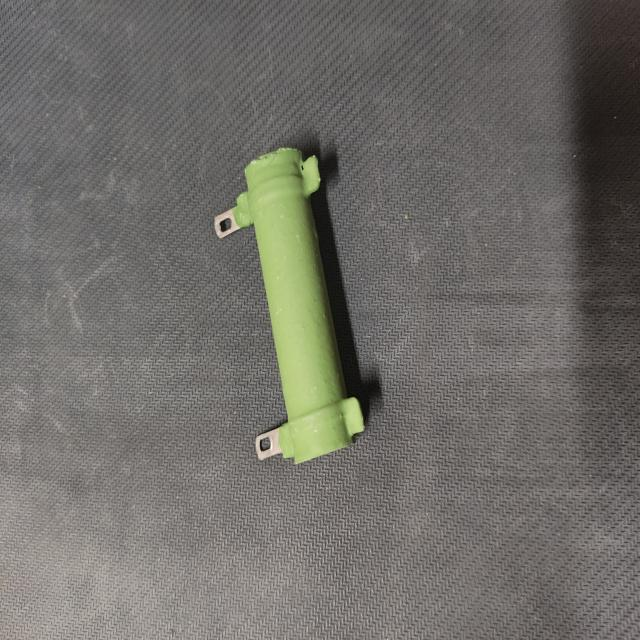resistor: (202, 139, 382, 475)
